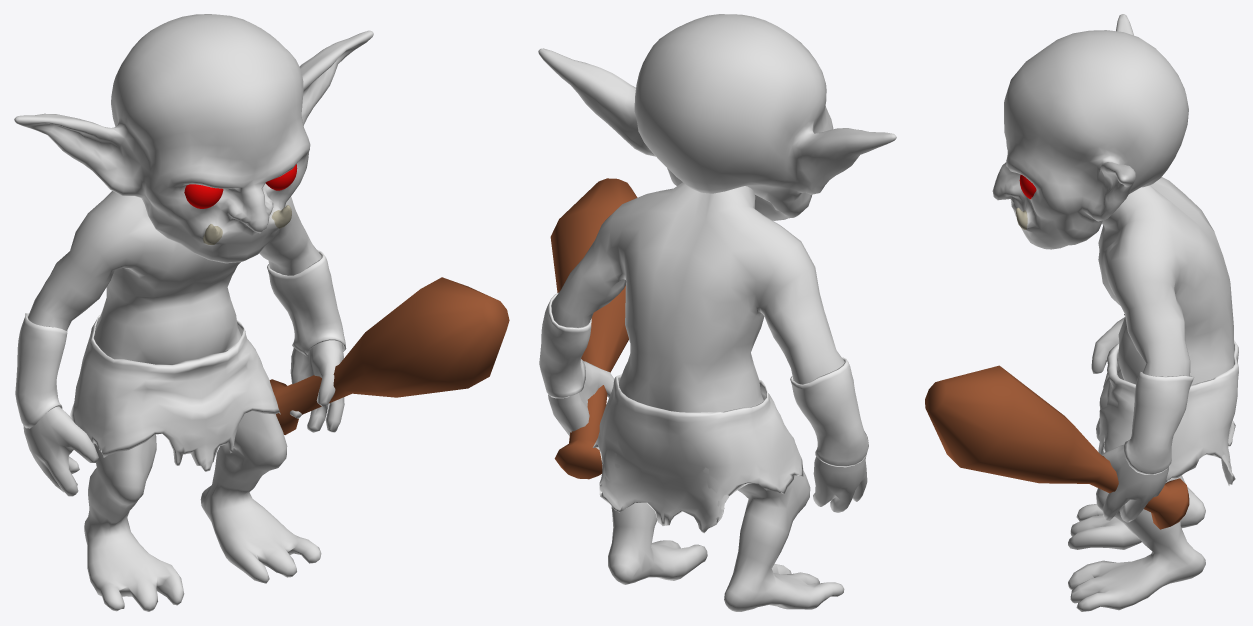
File: Goblin_Infantry.fbx
3 renders of one model, left to right at view 1: azimuth 30°, elevation 25°; view 2: azimuth 150°, elevation 25°; view 3: azimuth 270°, elevation 25°, orthographic. The views are drawn at different scales.
Parts seen in each view (by area): view 1: Goblin_Infantry_Join; view 2: Goblin_Infantry_Join; view 3: Goblin_Infantry_Join.
Boxes of the visible parts, x1,y1,x2,y2 form: Goblin_Infantry_Join: (14, 14, 509, 611); Goblin_Infantry_Join: (538, 14, 896, 611); Goblin_Infantry_Join: (925, 14, 1238, 611).
Bounding box in the file's own units: 1.97 × 2.56 × 1.37.
